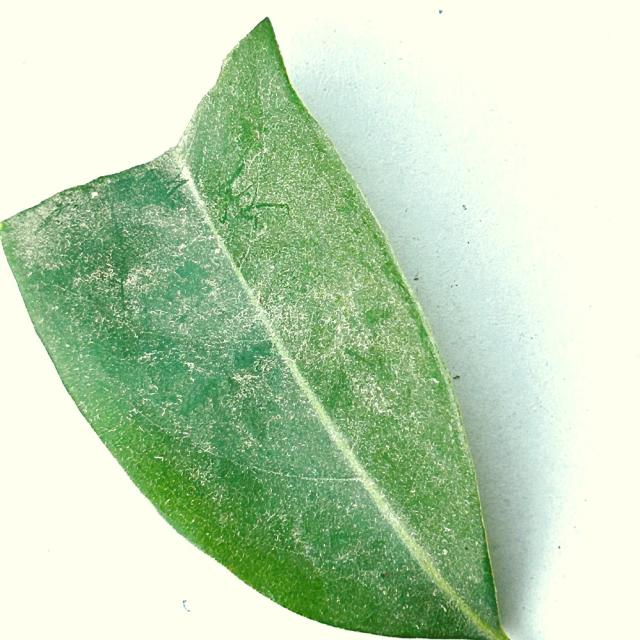Deficiency Leaf: (0, 0, 259, 219)
Lychee: (0, 17, 508, 639)
